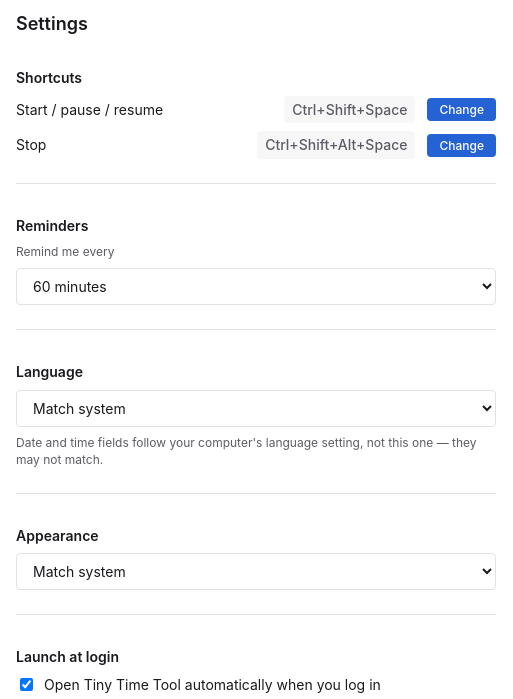
Scenario: Settings — reminders › selecting Custom… from a PRESET value (real state wiring) reveals the number field instead of snapping back
Select "Custom…" in the dropdown labelled "Remind me every" at x=256, y=287, box [16,268,496,305]
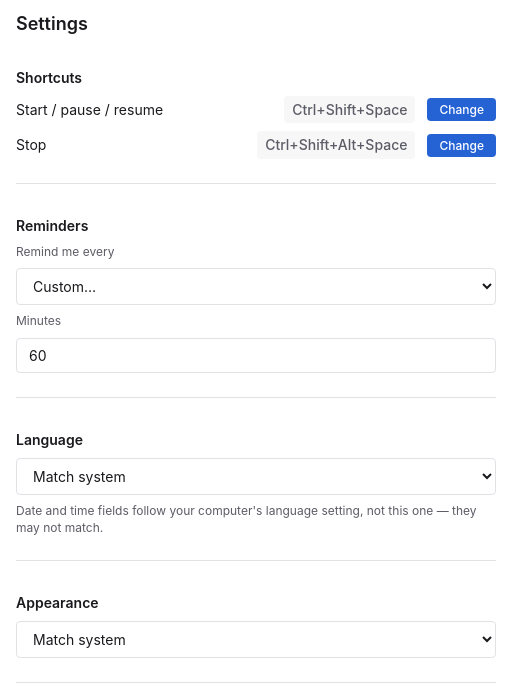
Check: the number field labelled "Minutes" is shown, box [16,338,496,373]
